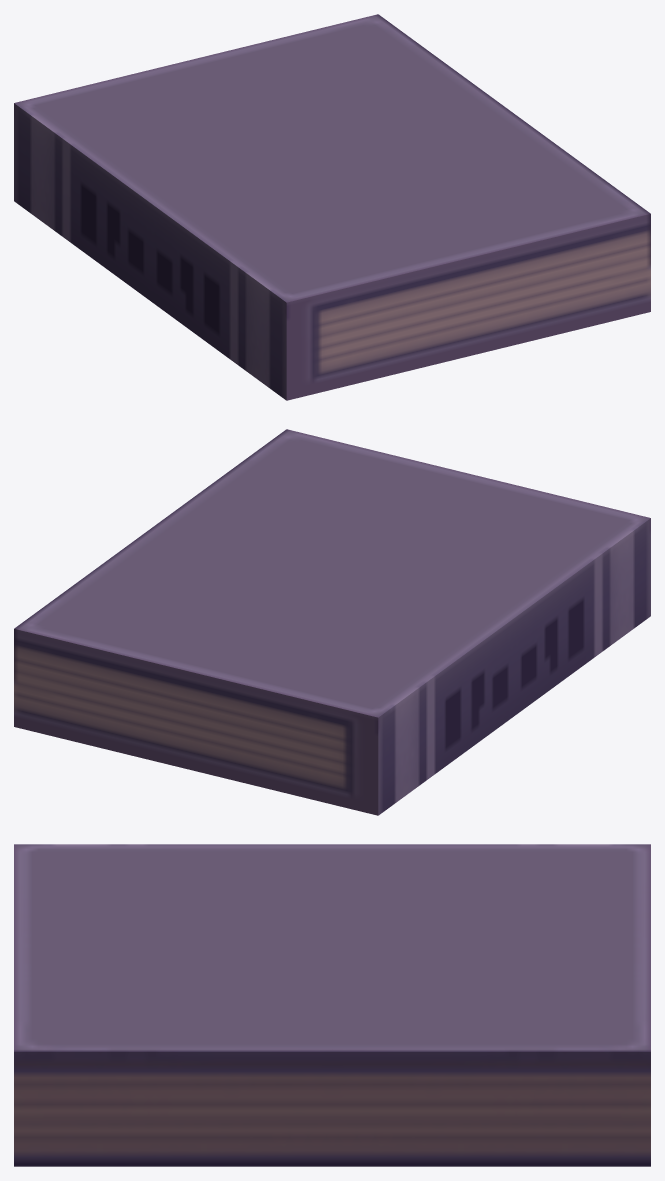
Rendered from scenes_around_book01b.FBX.
3 renders of one model, top to bottom at view 1: azimuth 30°, elevation 25°; view 2: azimuth 150°, elevation 25°; view 3: azimuth 270°, elevation 25°, orthographic. The views are drawn at different scales.
Visible parts, largest first — view 1: scenes_around_book01b; view 2: scenes_around_book01b; view 3: scenes_around_book01b.
Part boxes in pixels (bbox=[...]): scenes_around_book01b: bbox=[14, 14, 650, 400]; scenes_around_book01b: bbox=[14, 429, 650, 815]; scenes_around_book01b: bbox=[14, 844, 650, 1166].
Bounding box in the file's own units: 4156 × 1070 × 5387.
